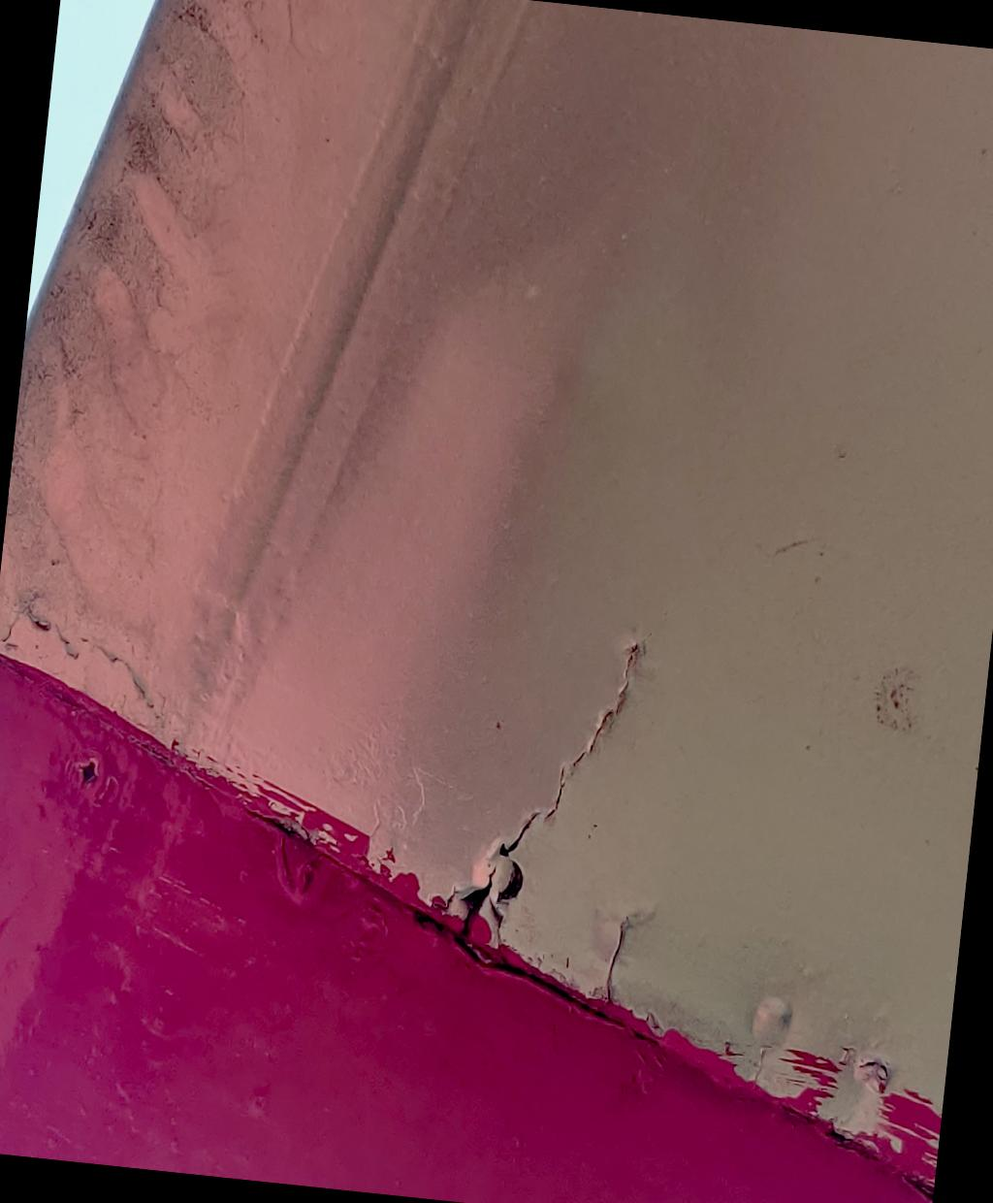crack: (413, 594, 664, 983), (573, 894, 652, 1027)
